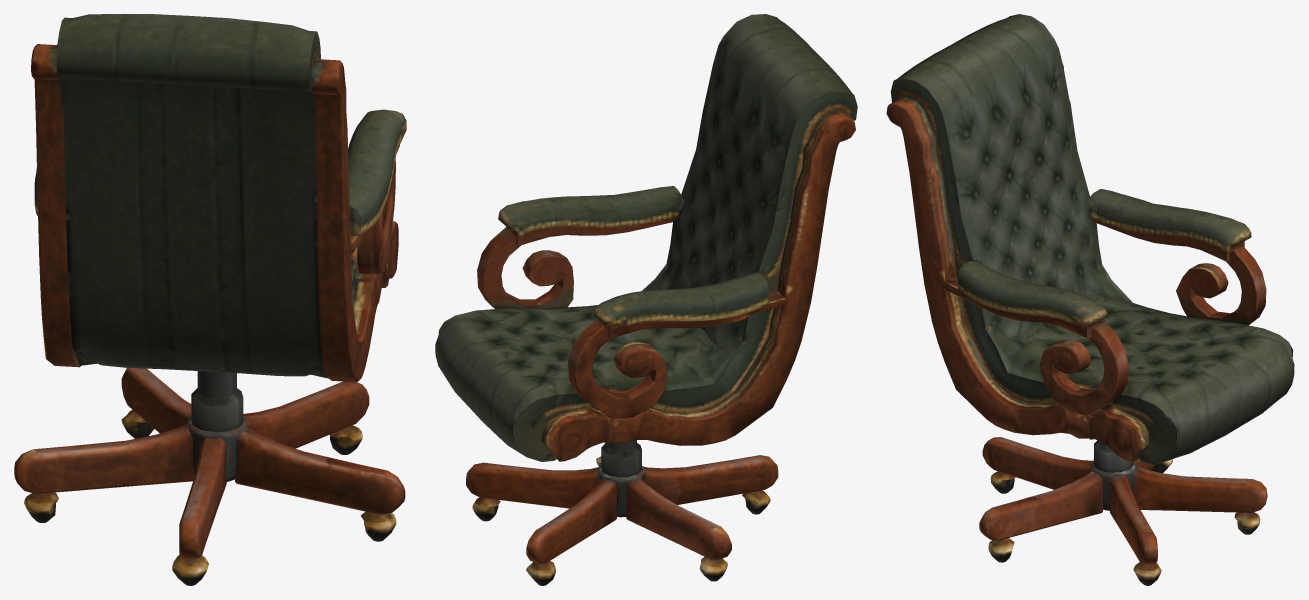
File: Chair.fbx
The picture shows the model from 3 angles, left to right: view 1: azimuth 30°, elevation 25°; view 2: azimuth 150°, elevation 25°; view 3: azimuth 270°, elevation 25°; orthographic projection. The views are drawn at different scales.
Visible parts, largest first — view 1: Chair_Low; view 2: Chair_Low; view 3: Chair_Low.
Boxes of the visible parts, x1,y1,x2,y2 form: Chair_Low: (14,14,406,585); Chair_Low: (435,14,857,585); Chair_Low: (886,14,1294,585).
Size of the model in its own units: 1.99 by 2.51 by 2.11.
